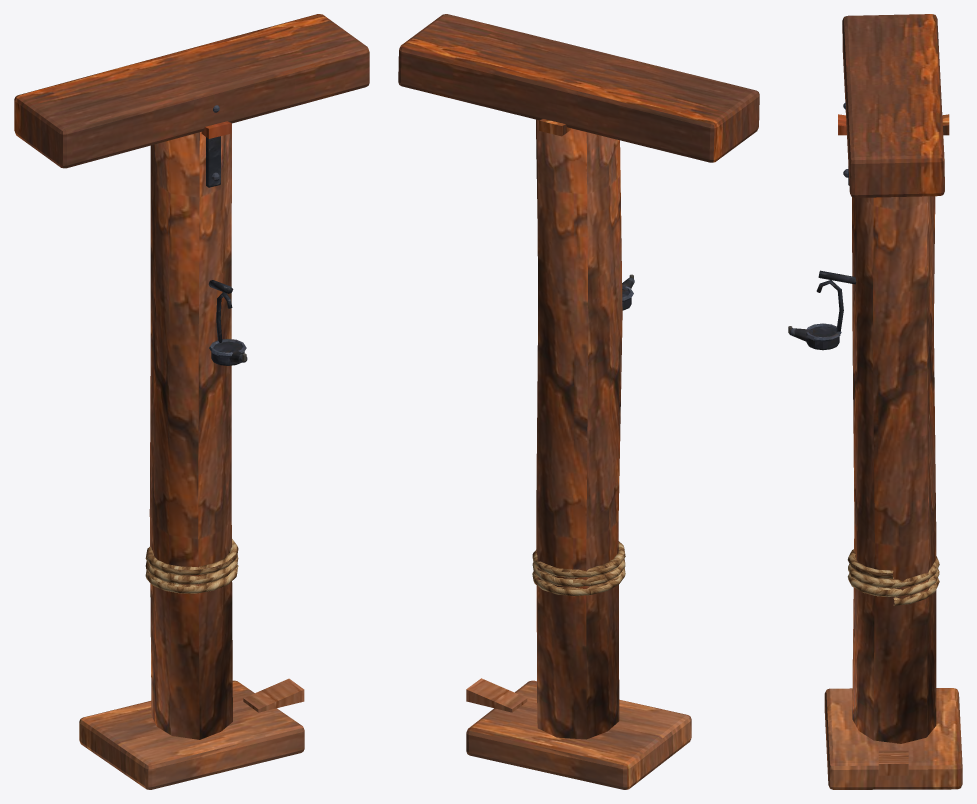
Rendered from mp_prop_and_cap.glb.
3 renders of one model, left to right at view 1: azimuth 30°, elevation 25°; view 2: azimuth 150°, elevation 25°; view 3: azimuth 270°, elevation 25°, orthographic. The views are drawn at different scales.
Visible parts, largest first — view 1: model; view 2: model; view 3: model.
Boxes of the visible parts, x1,y1,x2,y2 form: model: (14, 14, 369, 789); model: (398, 14, 759, 789); model: (788, 14, 962, 789).
Bounding box in the file's own units: 0.9621 × 1.99 × 0.4691.
Materials: 11 (10 with a texture image).
